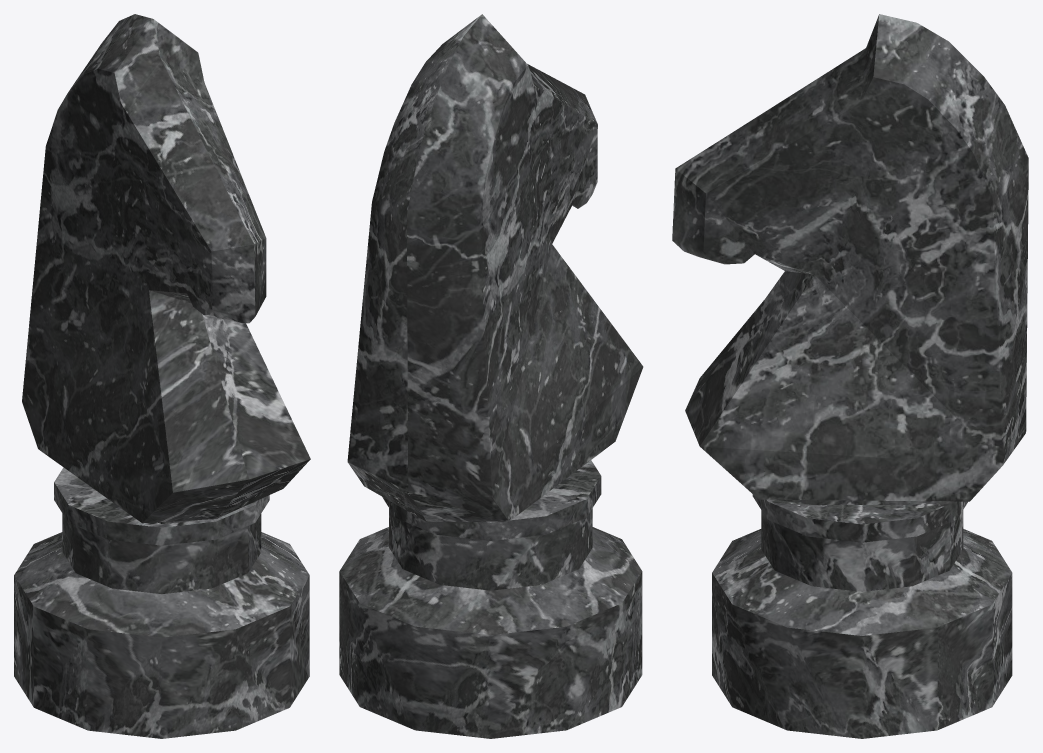
File: b_knight.glb
3 views of the same model, side by side, from view 1: azimuth 30°, elevation 25°; view 2: azimuth 150°, elevation 25°; view 3: azimuth 270°, elevation 25° (orthographic). The views are drawn at different scales.
Parts seen in each view (by area): view 1: Knight; view 2: Knight; view 3: Knight.
Part boxes in pixels (x1,y1,x2,y2): Knight: (14,14,310,738); Knight: (339,14,643,738); Knight: (672,14,1028,738).
Bounding box in the file's own units: 1.1 × 2.67 × 1.31.
1 material, 1 textured.
